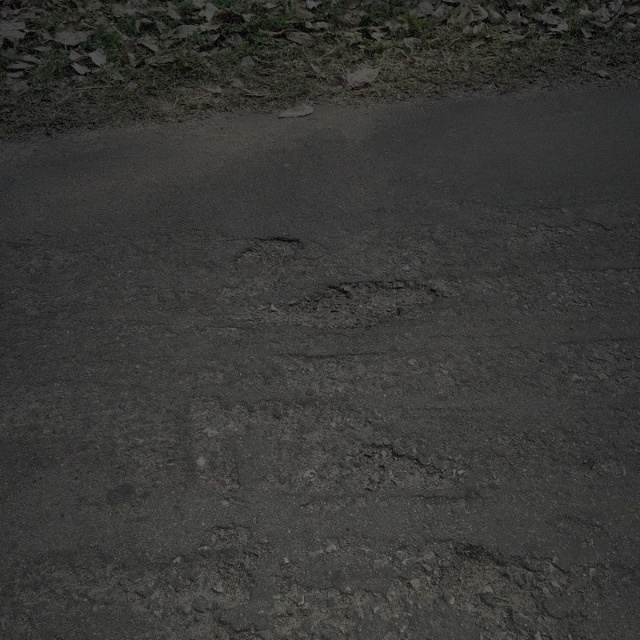pothole: (274, 277, 440, 327), (417, 539, 518, 614), (341, 440, 451, 492), (178, 558, 257, 606), (231, 232, 304, 271)
